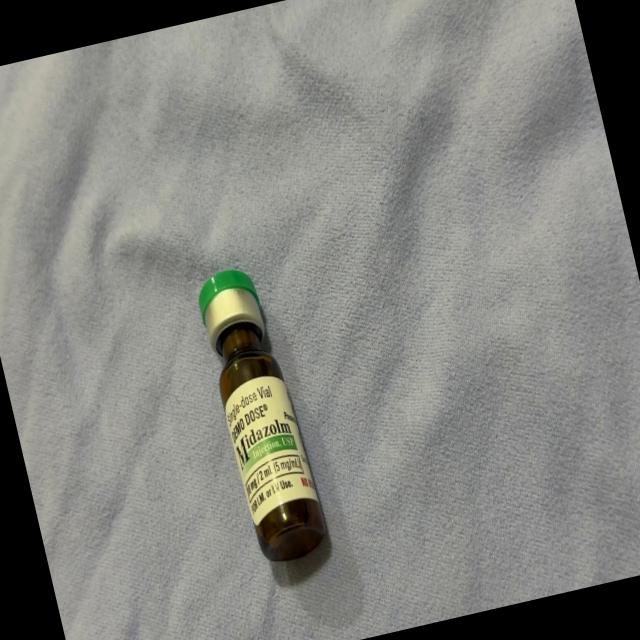midazolm: (194, 266, 329, 562)
